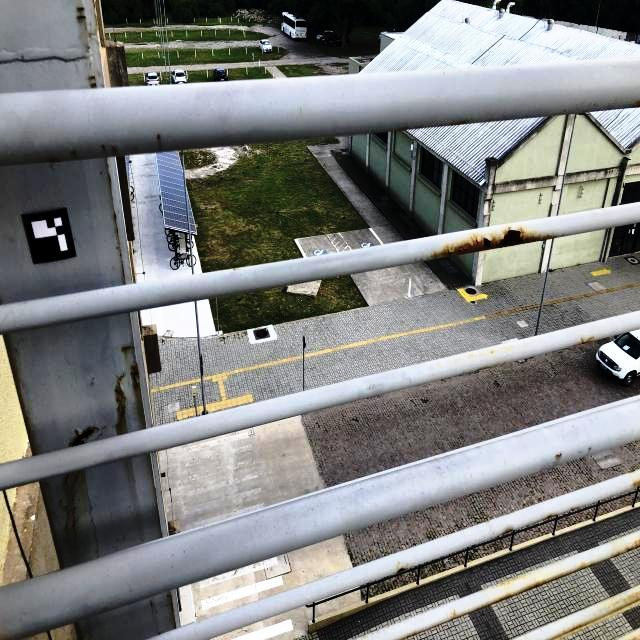Corrosion: (427, 226, 559, 260), (70, 427, 96, 447), (115, 373, 124, 417), (132, 366, 140, 387), (396, 567, 407, 573), (632, 539, 640, 547), (631, 481, 640, 487), (123, 345, 132, 351)
